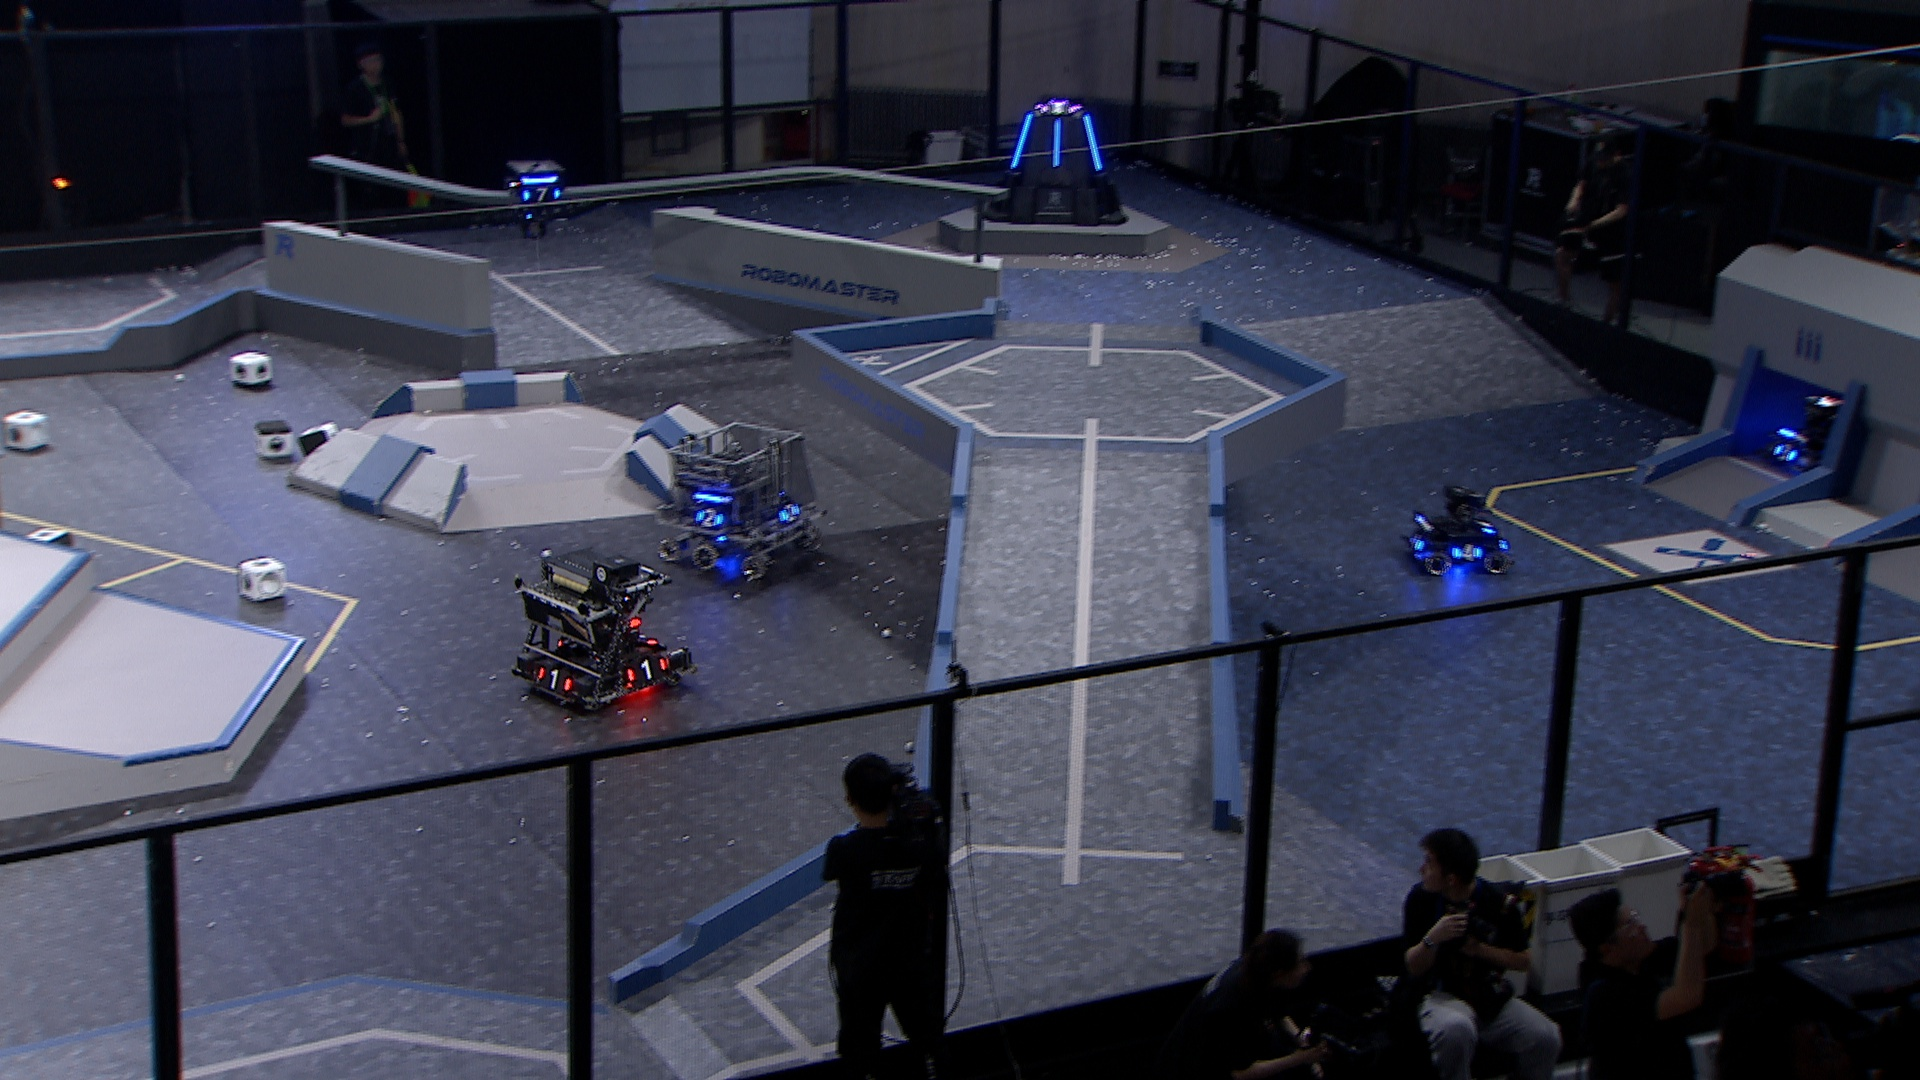armor: (1077, 113, 1112, 173), (1006, 112, 1035, 169), (624, 659, 673, 688), (534, 665, 576, 695), (1770, 436, 1801, 467), (520, 185, 560, 206), (1447, 542, 1484, 564), (694, 504, 723, 531), (779, 498, 803, 524), (1474, 514, 1501, 537), (1051, 120, 1063, 169), (1404, 529, 1428, 551)
base: (978, 98, 1130, 225)
car: (508, 541, 694, 713), (654, 418, 825, 585), (1762, 390, 1880, 487), (1400, 480, 1514, 576)
ignore: (1036, 102, 1081, 116)
watcher: (502, 157, 572, 243)
